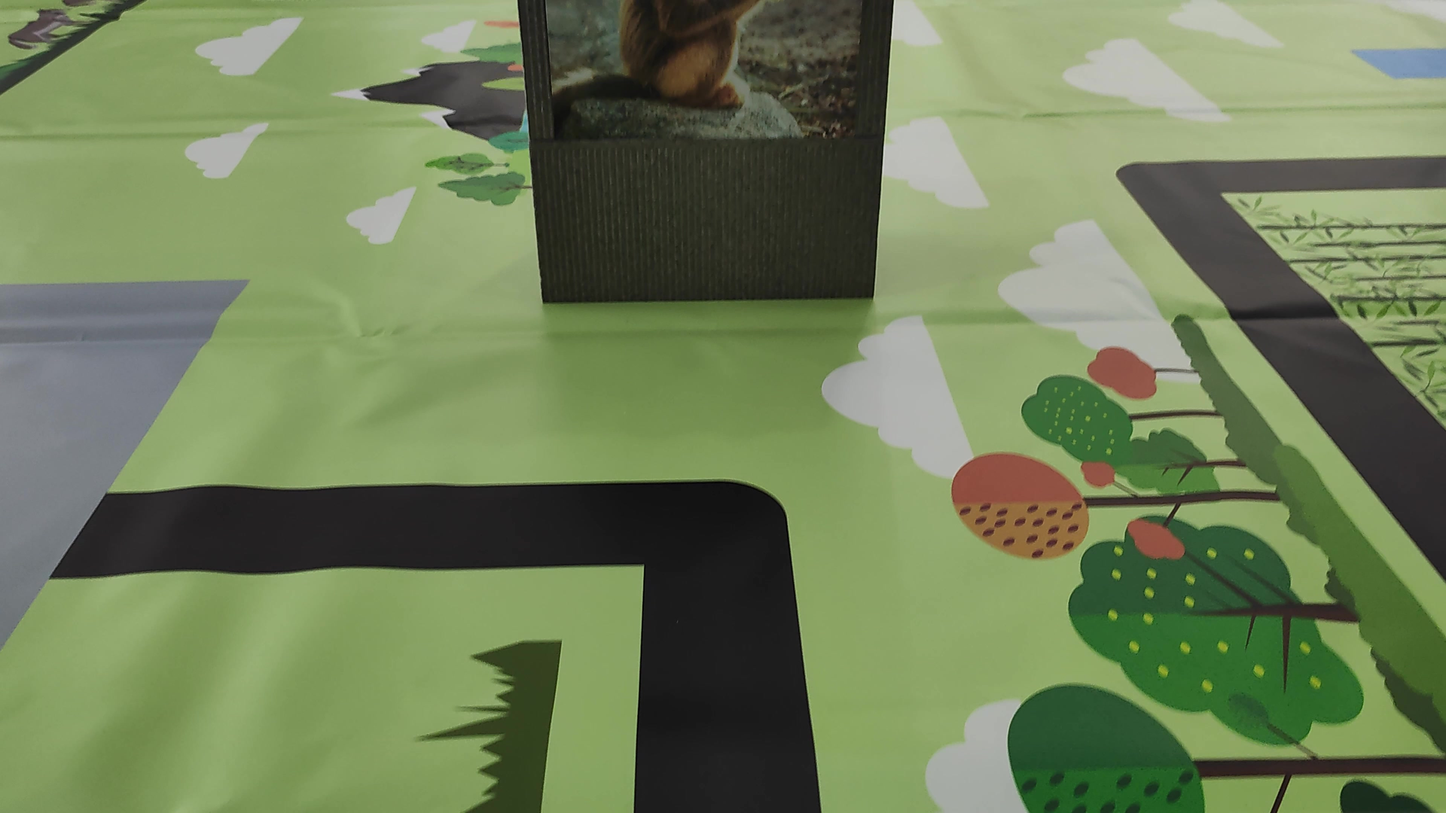monkey: (579, 2, 794, 149)
